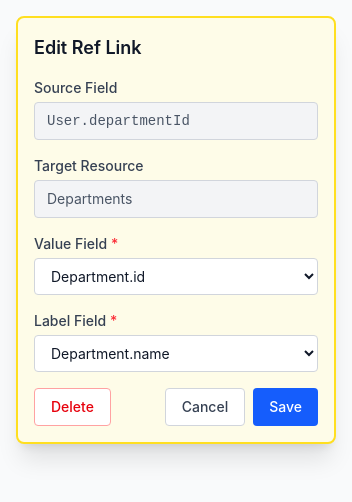
Test: RefLinkEditPanel › should display validation error when saving without selecting labelField
Select "Select a field..." in the dropdown with test id "label-field-select": (176, 354) [34,335,318,372]
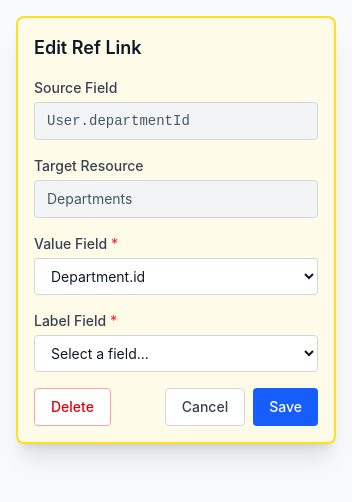
Click the button with test id "save-button": (286, 407) [253,388,318,426]
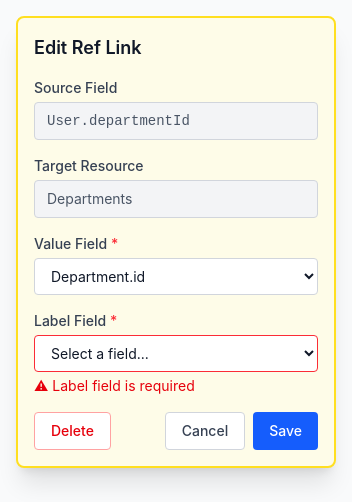
Expected: the message with test id "label-field-error" shows "Label field is required", [52,377,195,394]
